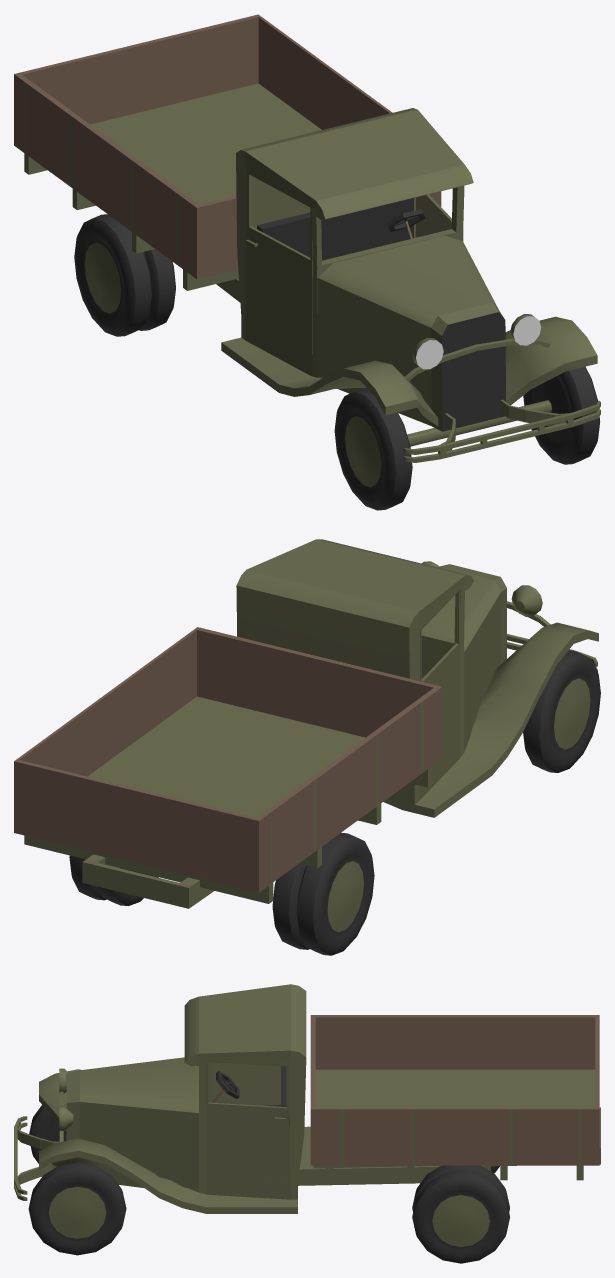
The model's file is GAZ-AAA.fbx.
3 renders of one model, top to bottom at view 1: azimuth 30°, elevation 25°; view 2: azimuth 150°, elevation 25°; view 3: azimuth 270°, elevation 25°, orthographic. The views are drawn at different scales.
Visible parts, largest first — view 1: GAZ_AA_Madeira, GAZ_AA_Corpo, GAZ_AA_Metal_Escuro, GAZ_AA_Roda_Trazeira_R, GAZ_AA_Porta_R, GAZ_AA_Roda_Frontal_R, GAZ_AA_Banco, GAZ_AA_Roda_Frontal_L, GAZ_AA_Porta_L; view 2: GAZ_AA_Madeira, GAZ_AA_Corpo, GAZ_AA_Metal_Escuro, GAZ_AA_Roda_Trazeira_R, GAZ_AA_Roda_Frontal_R, GAZ_AA_Porta_R, GAZ_AA_Roda_Trazeira_L; view 3: GAZ_AA_Madeira, GAZ_AA_Corpo, GAZ_AA_Metal_Escuro, GAZ_AA_Roda_Trazeira_L, GAZ_AA_Roda_Frontal_L, GAZ_AA_Porta_L, GAZ_AA_Porta_R, GAZ_AA_Roda_Frontal_R.
Boxes of the visible parts, x1,y1,x2,y2 form: GAZ_AA_Madeira: (14, 14, 441, 290); GAZ_AA_Corpo: (216, 108, 505, 431); GAZ_AA_Metal_Escuro: (221, 209, 600, 462); GAZ_AA_Roda_Trazeira_R: (74, 214, 175, 336); GAZ_AA_Porta_R: (246, 170, 312, 353); GAZ_AA_Roda_Frontal_R: (334, 388, 412, 510); GAZ_AA_Banco: (257, 198, 413, 260); GAZ_AA_Roda_Frontal_L: (523, 366, 600, 464); GAZ_AA_Porta_L: (415, 194, 451, 237); GAZ_AA_Madeira: (14, 627, 442, 908); GAZ_AA_Corpo: (236, 539, 506, 804); GAZ_AA_Metal_Escuro: (383, 561, 598, 817); GAZ_AA_Roda_Trazeira_R: (272, 832, 374, 955); GAZ_AA_Roda_Frontal_R: (523, 650, 600, 772); GAZ_AA_Porta_R: (420, 589, 459, 753); GAZ_AA_Roda_Trazeira_L: (69, 855, 158, 905); GAZ_AA_Madeira: (310, 1015, 600, 1180); GAZ_AA_Corpo: (66, 984, 490, 1199); GAZ_AA_Metal_Escuro: (14, 1068, 297, 1213); GAZ_AA_Roda_Trazeira_L: (412, 1165, 509, 1263); GAZ_AA_Roda_Frontal_L: (28, 1162, 126, 1255); GAZ_AA_Porta_L: (206, 1060, 290, 1181); GAZ_AA_Porta_R: (208, 1062, 280, 1105); GAZ_AA_Roda_Frontal_R: (29, 1105, 66, 1163).
Bounding box in the file's own units: 208 × 200 × 532.
